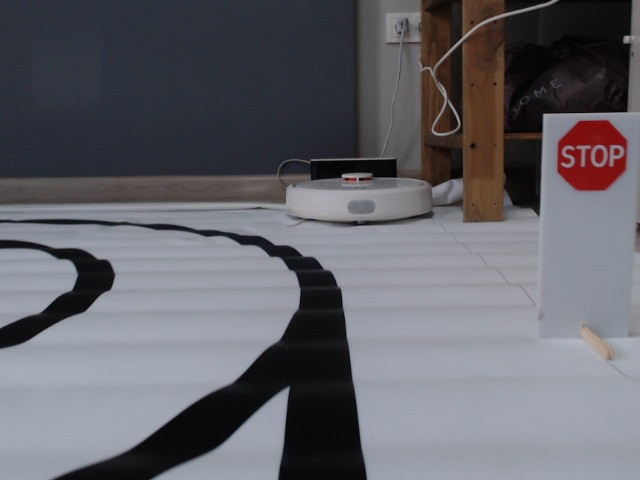Stop: (557, 118, 629, 195)
